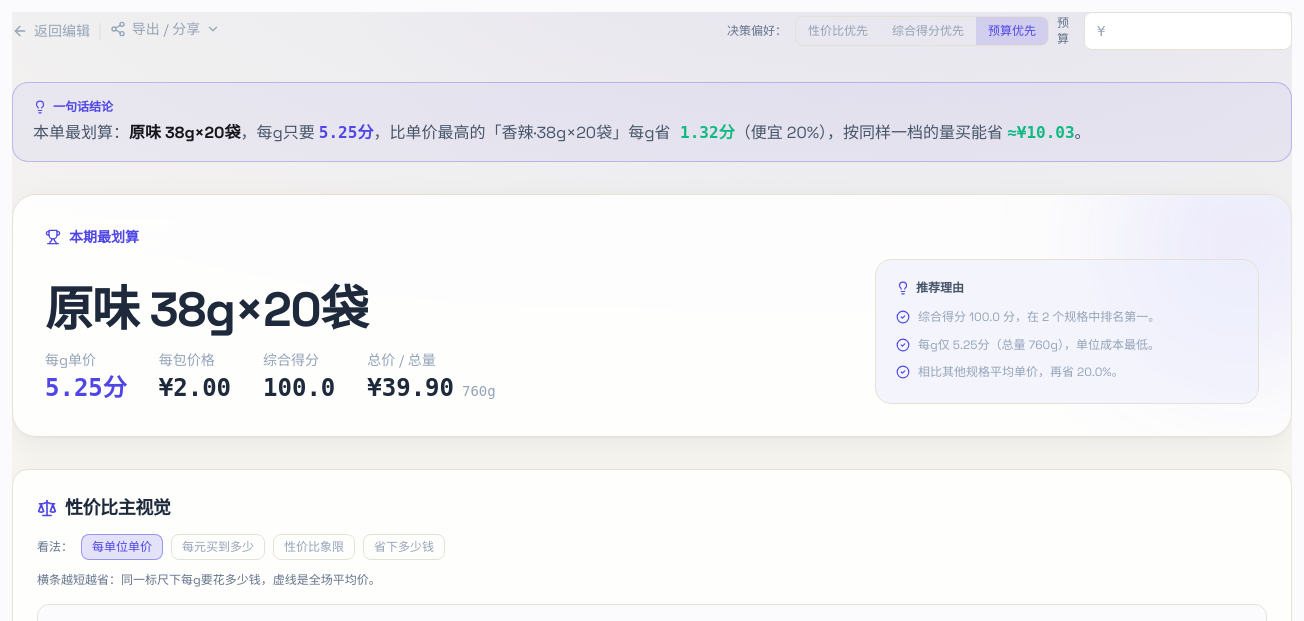
it: Report 预算输入 › 过滤非法字符：字母进不了输入框
Type "12abc" into the field named "预算" at coordinates (1188, 31), box [1084,12,1292,50]
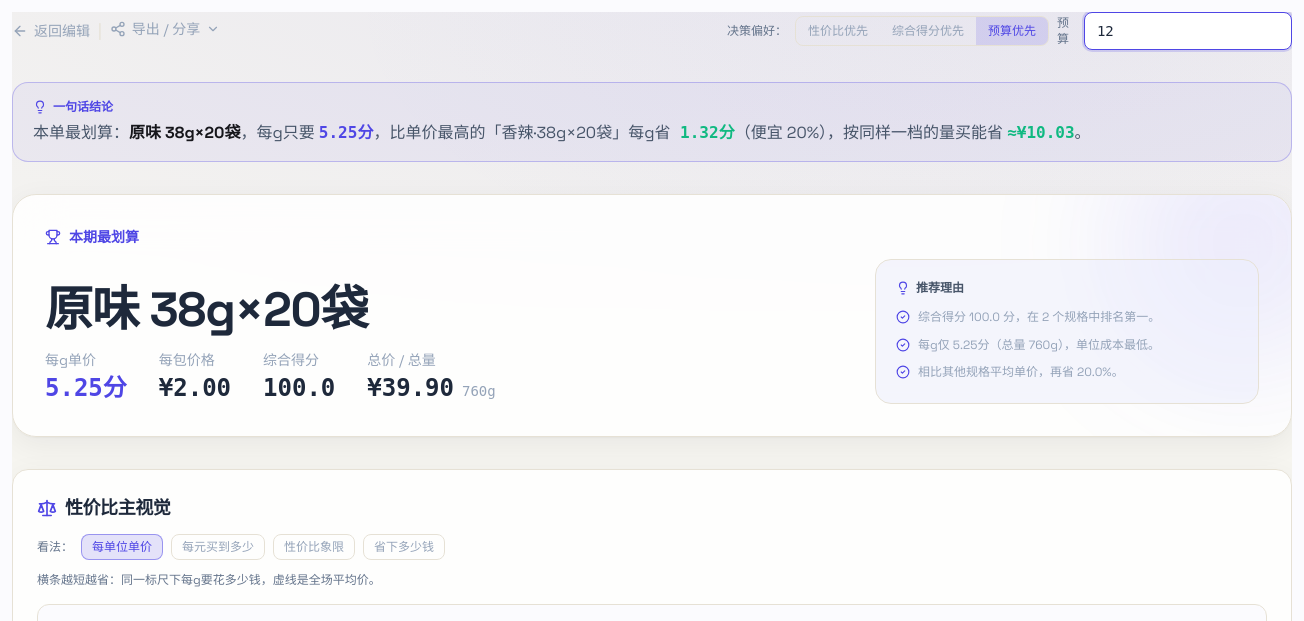
Now the field named "预算" holds "12", box [1084,12,1292,50]
